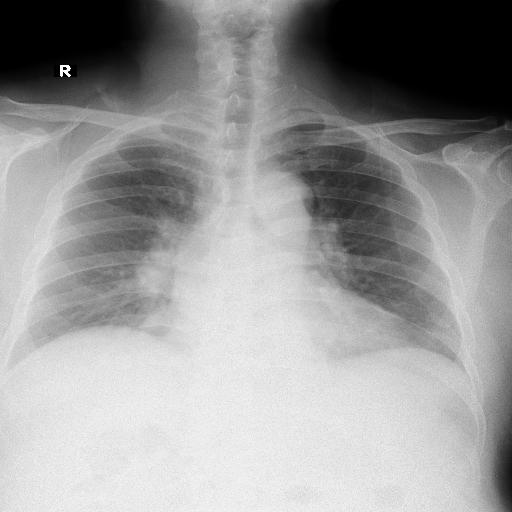Aortic enlargement: (216, 144, 282, 200)
Cardiomegaly: (37, 272, 289, 330)
Lung Opacity: (122, 86, 182, 138)
